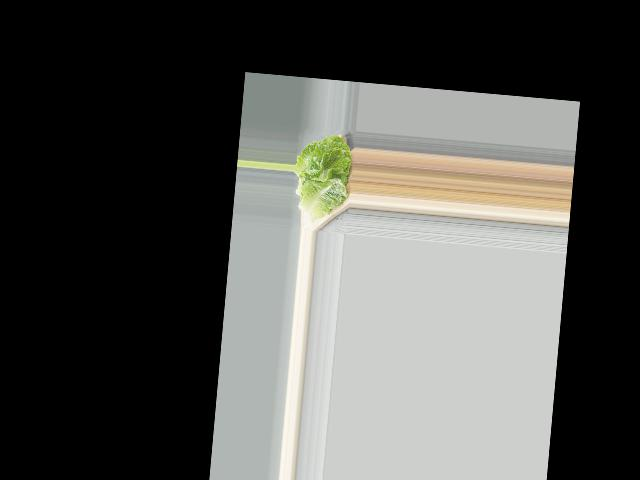lettuce: (291, 129, 356, 221)
